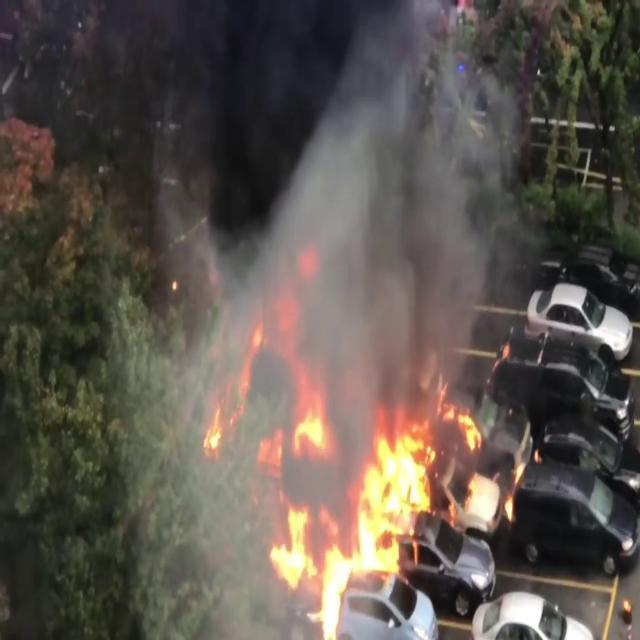Fire: (259, 382, 497, 623)
Smoke: (135, 1, 541, 400)
